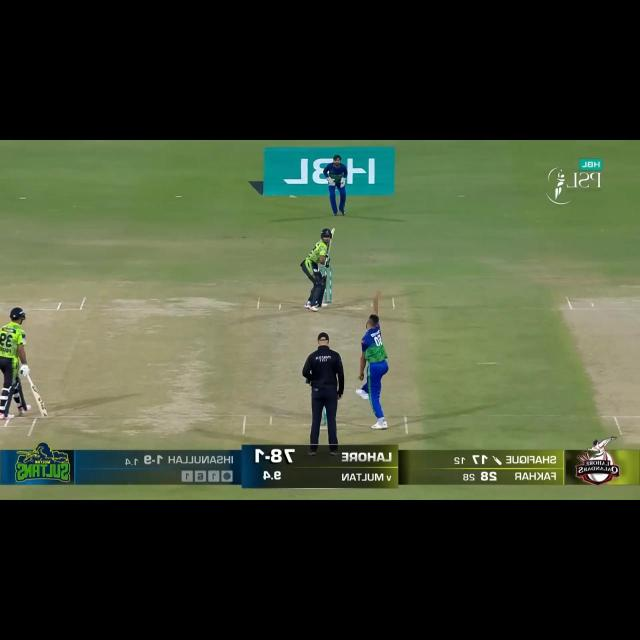bat: (29, 381, 50, 418), (326, 226, 336, 256)
toe: (38, 407, 48, 417), (328, 228, 337, 235)
